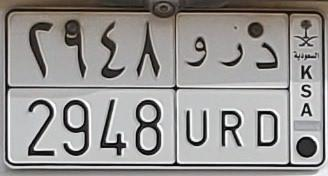2: (26, 21, 58, 156)
4: (99, 20, 129, 157)
8: (135, 21, 163, 157)
9: (63, 19, 91, 157)
D: (255, 42, 280, 149)
R: (220, 43, 244, 147)
U: (184, 36, 211, 147)
